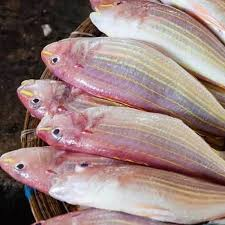Ikan Kerisi: (35, 36, 225, 119), (32, 95, 225, 166), (41, 157, 225, 218), (2, 144, 78, 193)
